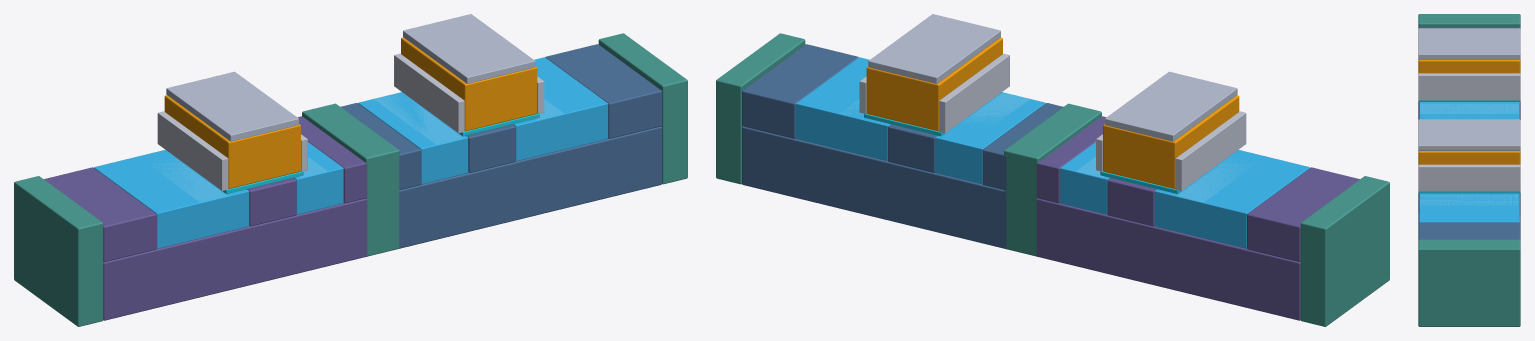
Rendered from feol-build.glb.
3 views of the same model, side by side, from view 1: azimuth 30°, elevation 25°; view 2: azimuth 150°, elevation 25°; view 3: azimuth 270°, elevation 25° (orthographic). The views are drawn at different scales.
Parts seen in each view (by area): view 1: pwell, nwell, st1_sti_l, st6_sd1, st1_sti_mid, st6_sd4, top.005, st7_sil, st7_sil.001, top, st3_gate.001, st3_gate (+11 smaller); view 2: pwell, nwell, st1_sti_l, st6_sd1, st6_sd4, st1_sti_mid, top.005, st7_sil, st7_sil.001, top, st3_gate.001, st3_gate (+11 smaller); view 3: st1_sti_r, st7_sil, st7_sil.001, st6_sd4, st4_sp_r, st4_sp_r.001, top.005, st3_gate, st1_sti_l, st3_gate.001, st5_ldd_r, st5_ldd_r.001 (+4 smaller).
Part boxes in pixels (x1=…): pwell: x1=103, y1=198, x2=368, y2=320; nwell: x1=397, y1=126, x2=661, y2=249; st1_sti_l: x1=14, y1=176, x2=103, y2=326; st6_sd1: x1=94, y1=149, x2=249, y2=248; st1_sti_mid: x1=302, y1=103, x2=399, y2=255; st6_sd4: x1=513, y1=57, x2=608, y2=161; top.005: x1=545, y1=44, x2=661, y2=138; st7_sil: x1=166, y1=71, x2=298, y2=141; st7_sil.001: x1=403, y1=14, x2=535, y2=83; top: x1=44, y1=167, x2=156, y2=262; st3_gate.001: x1=401, y1=37, x2=537, y2=131; st3_gate: x1=164, y1=95, x2=300, y2=188; pwell: x1=1035, y1=198, x2=1300, y2=320; nwell: x1=742, y1=126, x2=1006, y2=249; st1_sti_l: x1=1300, y1=176, x2=1389, y2=326; st6_sd1: x1=1154, y1=149, x2=1309, y2=248; st6_sd4: x1=795, y1=57, x2=890, y2=161; st1_sti_mid: x1=1004, y1=103, x2=1101, y2=256; top.005: x1=742, y1=44, x2=858, y2=138; st7_sil: x1=1105, y1=71, x2=1237, y2=141; st7_sil.001: x1=868, y1=14, x2=1000, y2=83; top: x1=1247, y1=167, x2=1359, y2=262; st3_gate.001: x1=866, y1=37, x2=1002, y2=131; st3_gate: x1=1103, y1=95, x2=1239, y2=188; st1_sti_r: x1=1418, y1=239, x2=1520, y2=326; st7_sil: x1=1418, y1=28, x2=1520, y2=59; st7_sil.001: x1=1418, y1=119, x2=1520, y2=150; st6_sd4: x1=1419, y1=193, x2=1519, y2=222; st4_sp_r: x1=1418, y1=73, x2=1520, y2=100; st4_sp_r.001: x1=1418, y1=164, x2=1520, y2=191; top.005: x1=1418, y1=222, x2=1520, y2=240; st3_gate: x1=1418, y1=59, x2=1520, y2=73; st1_sti_l: x1=1418, y1=14, x2=1520, y2=28; st3_gate.001: x1=1418, y1=150, x2=1520, y2=164; st5_ldd_r: x1=1420, y1=103, x2=1518, y2=113; st5_ldd_r.001: x1=1420, y1=194, x2=1518, y2=205.
Size of the model in its own units: 2.84 by 0.69 by 0.52.
